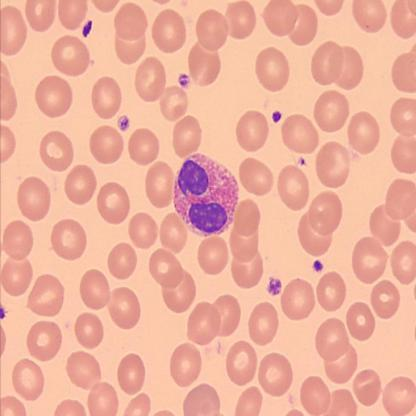Eosinophil: (175, 150, 242, 233)
